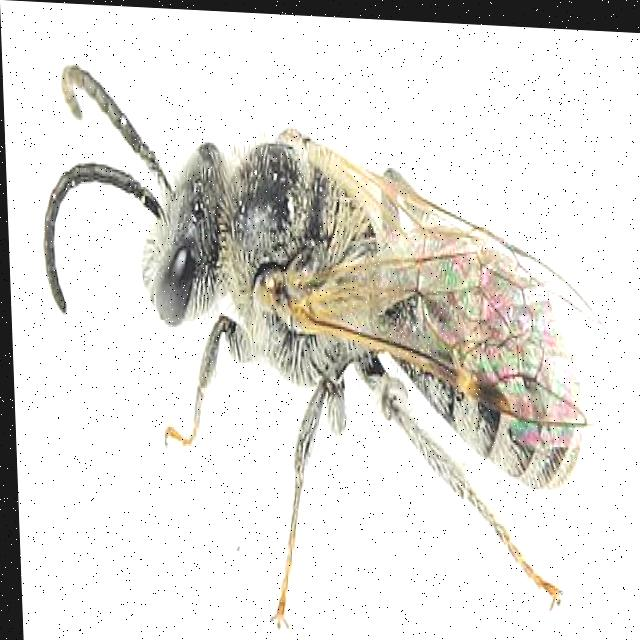Lasioglossum: (30, 34, 609, 639)
